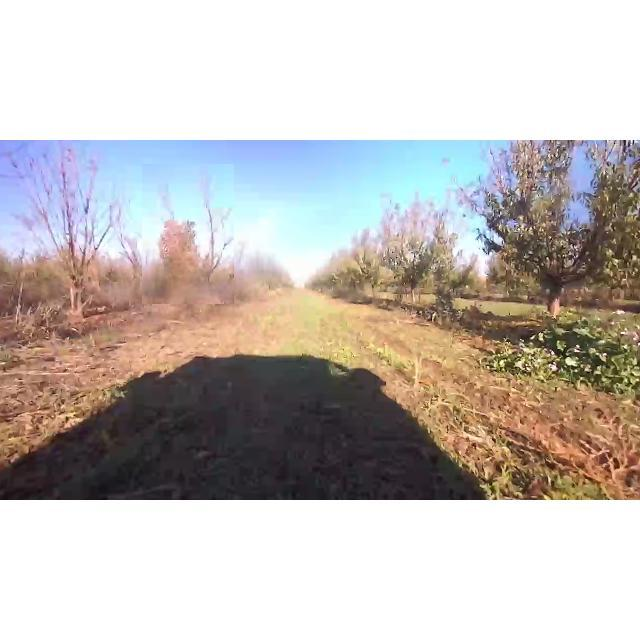direk: (460, 140, 640, 324), (1, 144, 130, 324), (142, 164, 235, 304), (371, 193, 464, 313)
